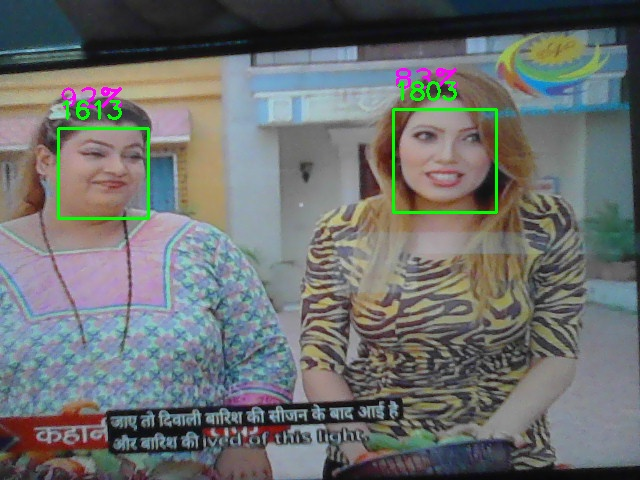fake: (393, 109, 497, 213), (58, 128, 149, 219)
